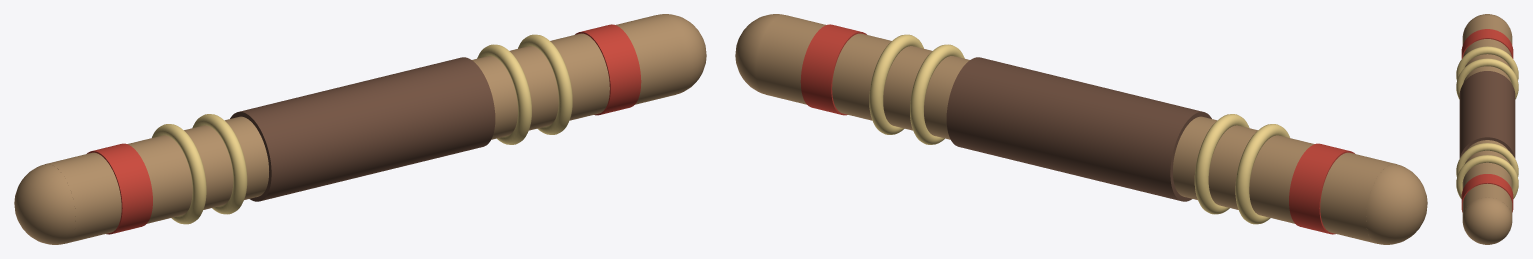
File: throwing_stick.glb
3 views of the same model, side by side, from view 1: azimuth 30°, elevation 25°; view 2: azimuth 150°, elevation 25°; view 3: azimuth 270°, elevation 25° (orthographic). The views are drawn at different scales.
Parts seen in each view (by area): view 1: StickPart0, StickPart3, StickPart1, StickPart9, StickPart8, StickPart4, StickPart7, StickPart5, StickPart6, StickPart2; view 2: StickPart0, StickPart3, StickPart1, StickPart9, StickPart8, StickPart4, StickPart7, StickPart5, StickPart6, StickPart2; view 3: StickPart3, StickPart0, StickPart2, StickPart7, StickPart5, StickPart6, StickPart4, StickPart9, StickPart8, StickPart1.
Part boxes in pixels (x1,y1,x2,y2): StickPart0: (45, 15, 685, 243); StickPart3: (230, 57, 495, 201); StickPart1: (14, 163, 75, 244); StickPart9: (575, 24, 641, 115); StickPart8: (87, 143, 152, 234); StickPart4: (152, 124, 206, 224); StickPart7: (518, 34, 572, 134); StickPart5: (192, 114, 247, 214); StickPart6: (477, 44, 531, 144); StickPart2: (658, 14, 706, 94); StickPart0: (756, 15, 1396, 243); StickPart3: (946, 57, 1211, 201); StickPart1: (1366, 163, 1427, 244); StickPart9: (800, 24, 866, 115); StickPart8: (1289, 143, 1354, 234); StickPart4: (1235, 124, 1289, 224); StickPart7: (869, 34, 923, 134); StickPart5: (1194, 114, 1249, 214); StickPart6: (910, 44, 964, 144); StickPart2: (735, 14, 783, 94); StickPart3: (1459, 71, 1515, 158); StickPart0: (1462, 16, 1512, 216); StickPart2: (1462, 197, 1512, 244); StickPart7: (1456, 155, 1518, 198); StickPart5: (1456, 58, 1518, 99); StickPart6: (1456, 143, 1518, 176); StickPart4: (1456, 46, 1518, 79); StickPart9: (1461, 174, 1513, 212); StickPart8: (1461, 29, 1513, 58); StickPart1: (1463, 14, 1511, 31).
Size of the model in its own units: 0.67 by 0.0876 by 0.0876.
